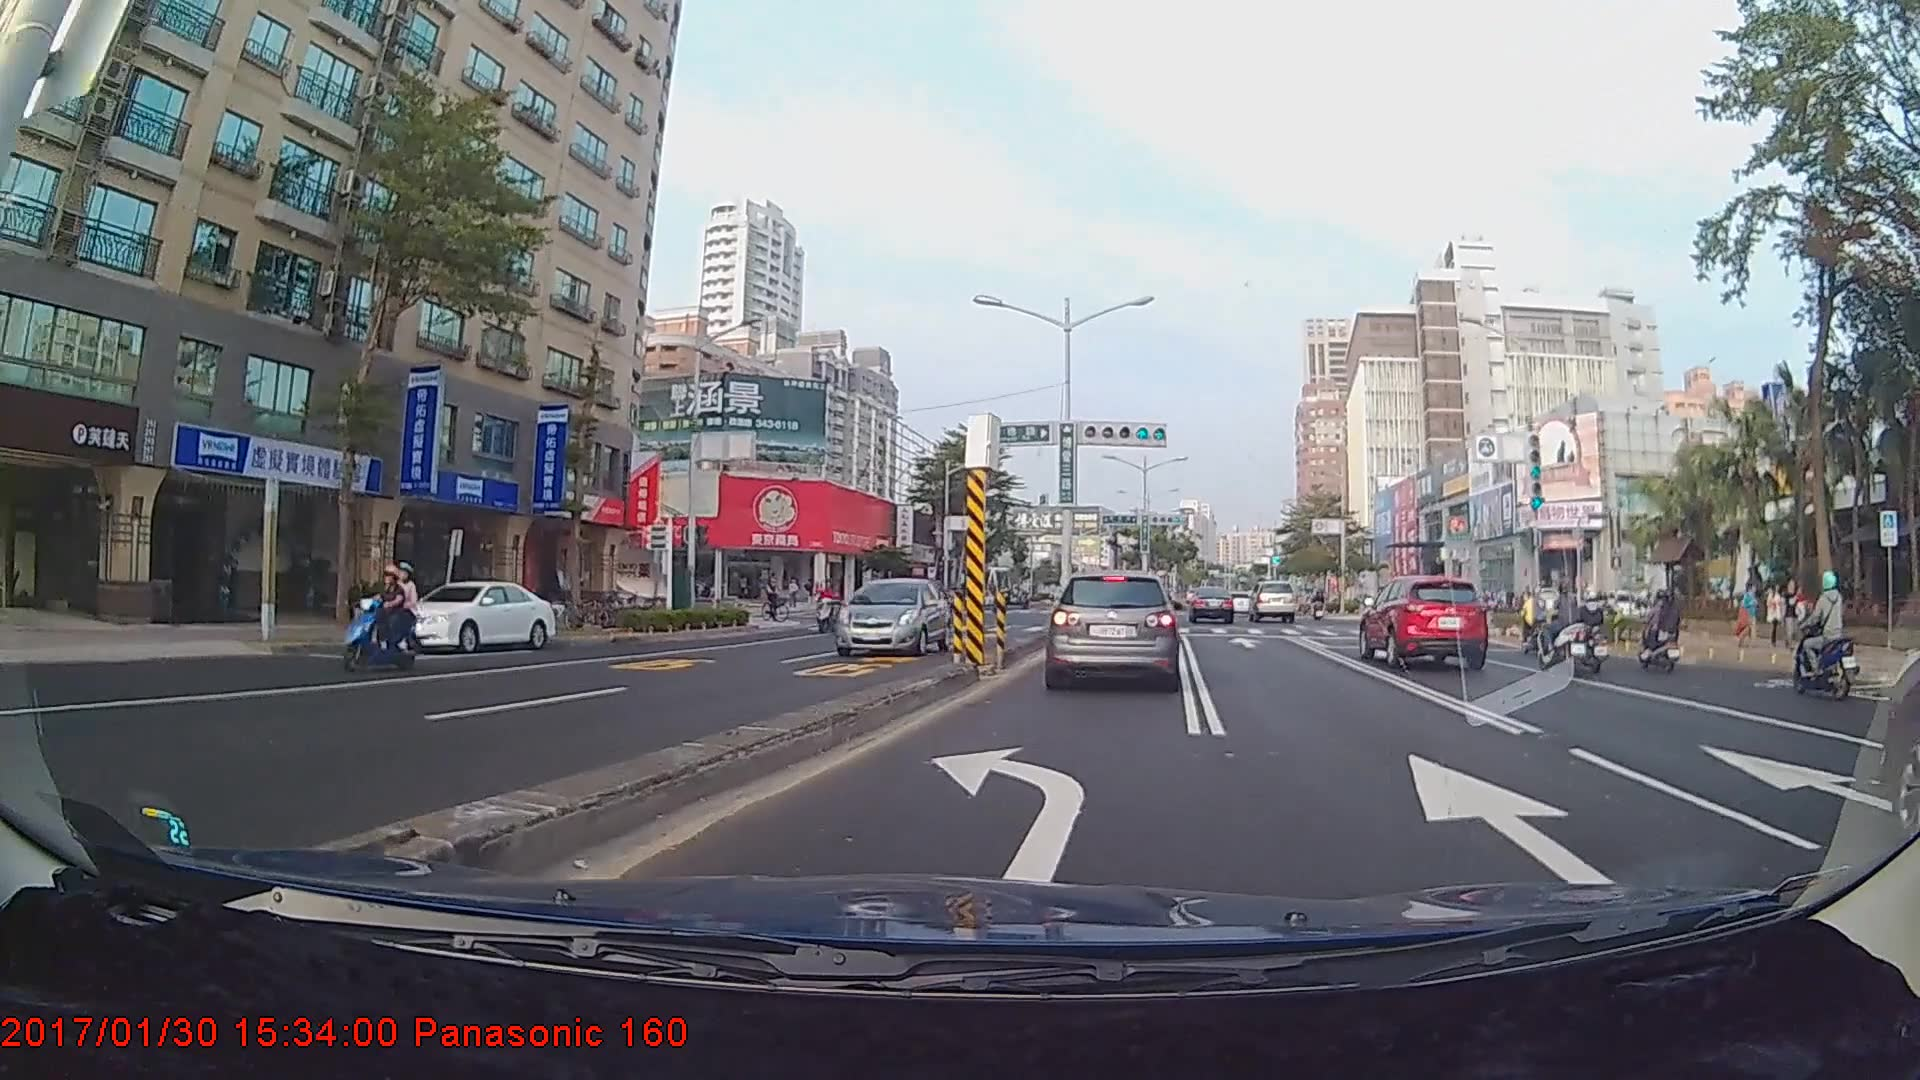pedestrian: (1734, 580, 1760, 651), (1785, 578, 1806, 648), (1767, 582, 1787, 646)
rider: (338, 563, 426, 682), (1796, 571, 1870, 699), (1536, 576, 1600, 674), (1634, 586, 1686, 673), (811, 574, 849, 638), (761, 575, 793, 627)
vehicle: (1043, 569, 1178, 691), (1359, 569, 1494, 671), (380, 578, 557, 653), (832, 575, 952, 654), (1249, 579, 1297, 623), (1186, 585, 1235, 624)
